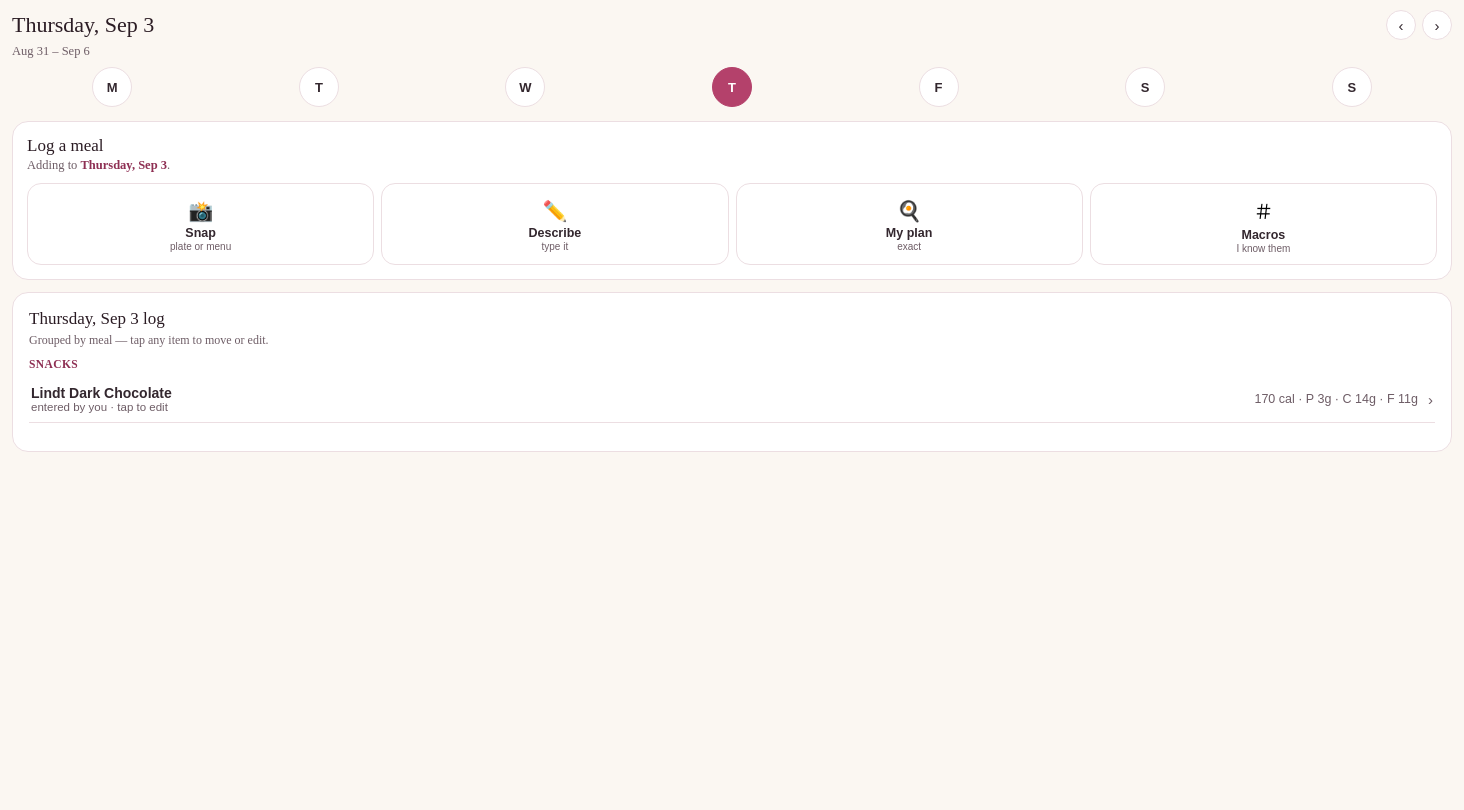
Test: MealLogCard edit Save › keeps the editor open when update fails
The width and height of the screenshot is (1464, 810).
Click the text "Lindt Dark Chocolate". click: {"x": 101, "y": 393}
box: [31, 385, 172, 401]
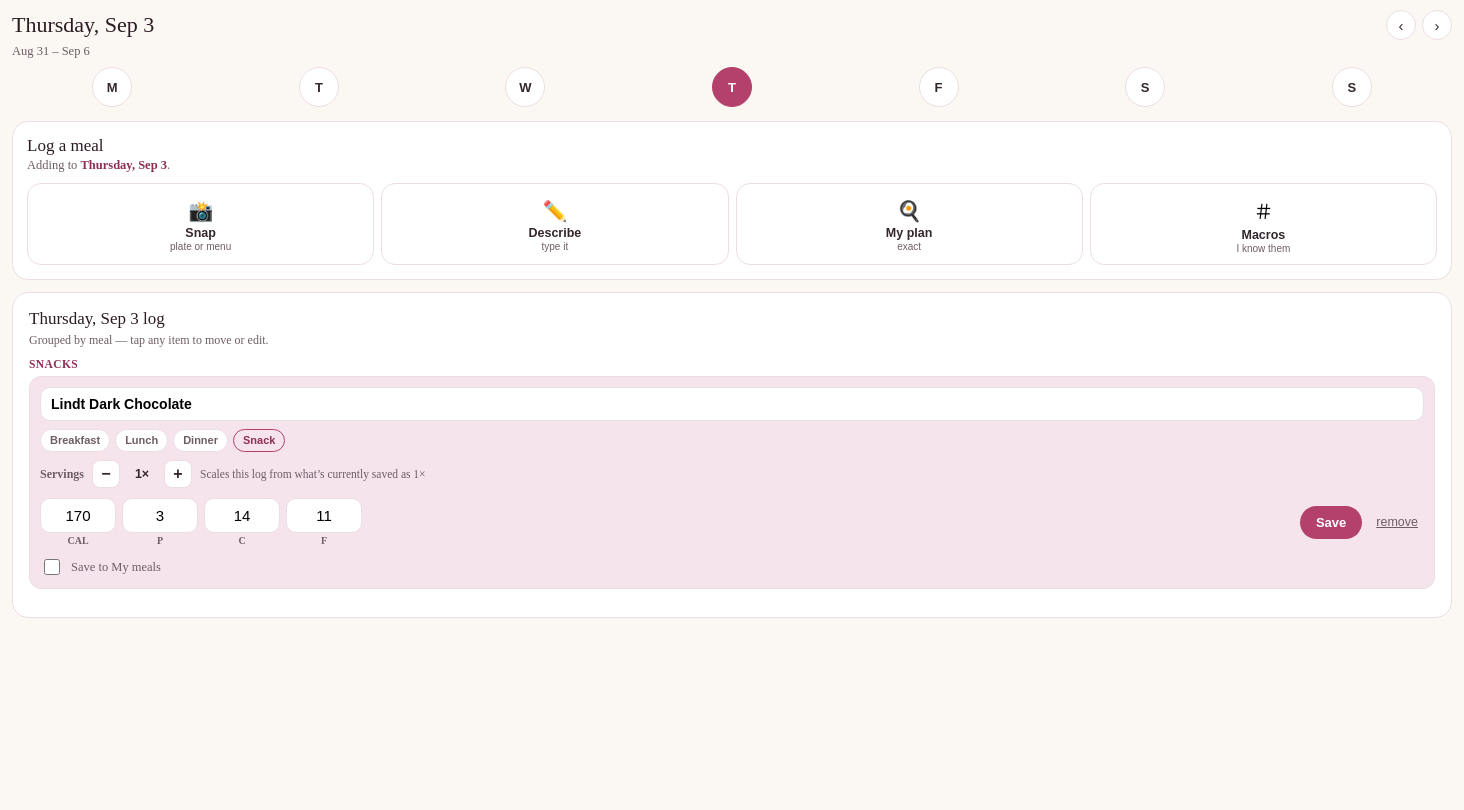
Click the button "Save". click: {"x": 1331, "y": 522}
box: [1300, 506, 1362, 539]
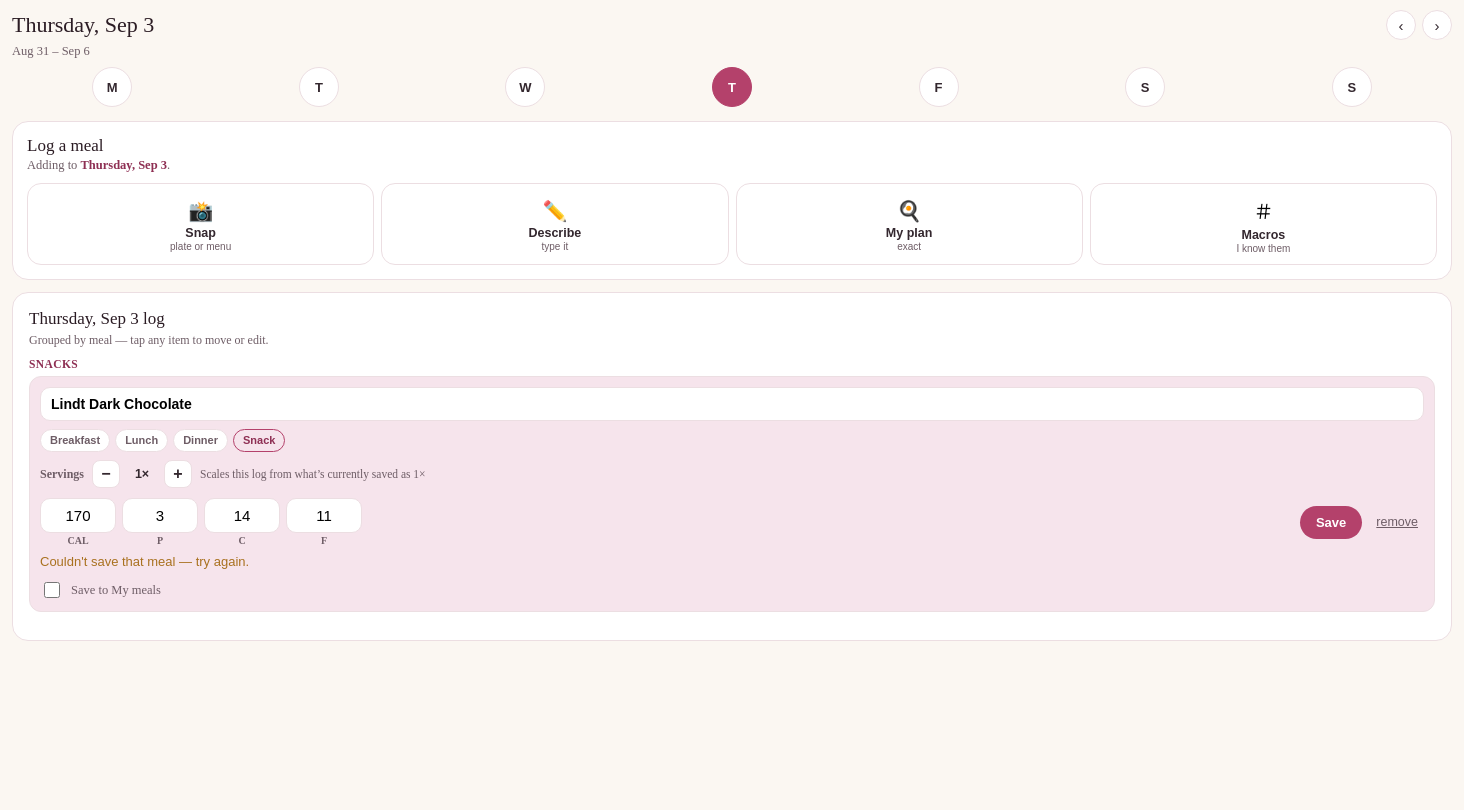
Now the button "Save" is shown, box [1300, 506, 1362, 539]
Now the text "Couldn't save that meal — try again." is shown, box [40, 554, 249, 569]
